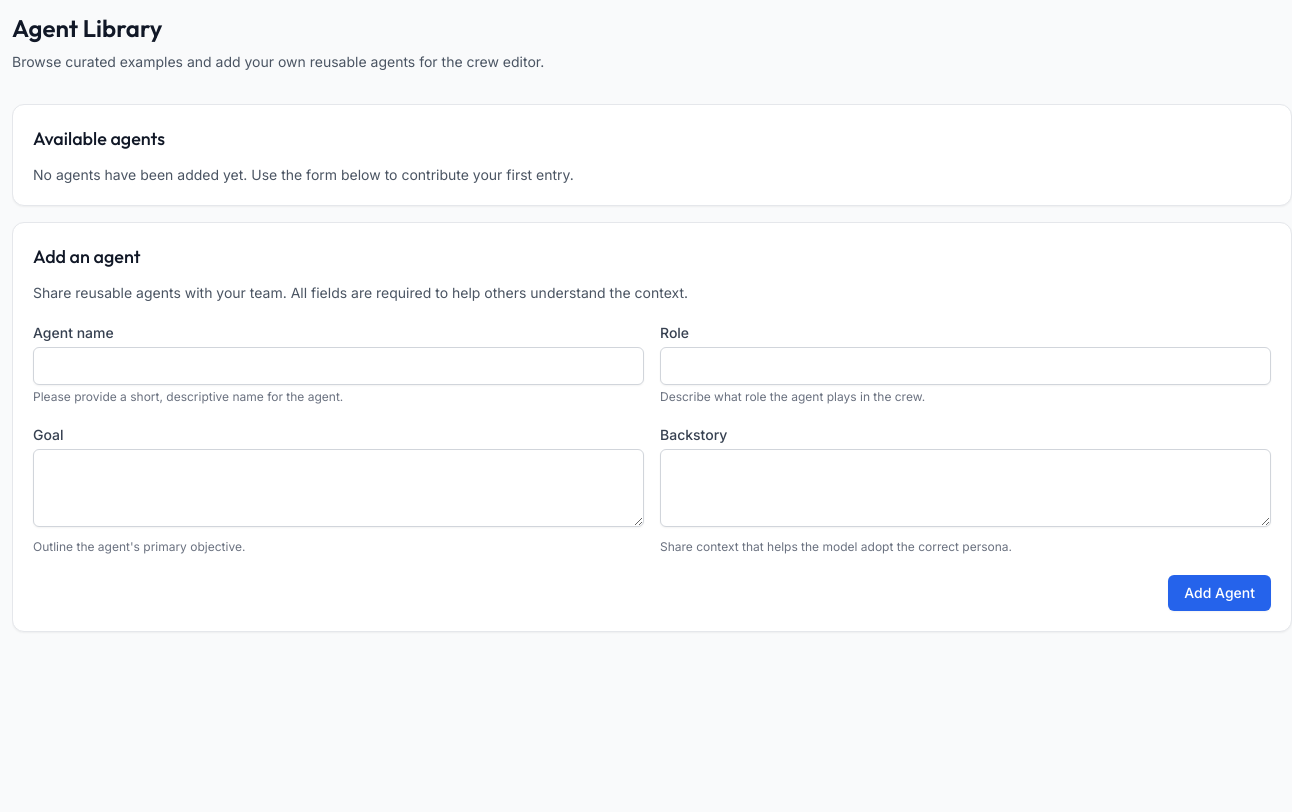
it: AgentLibraryPanel › shows inline validation errors when fields are missing
Expected: the heading "Add an agent" is shown, left=33, top=245, right=141, bottom=268
Click the button "Add Agent". click: (1220,593)
box: left=1168, top=575, right=1271, bottom=611
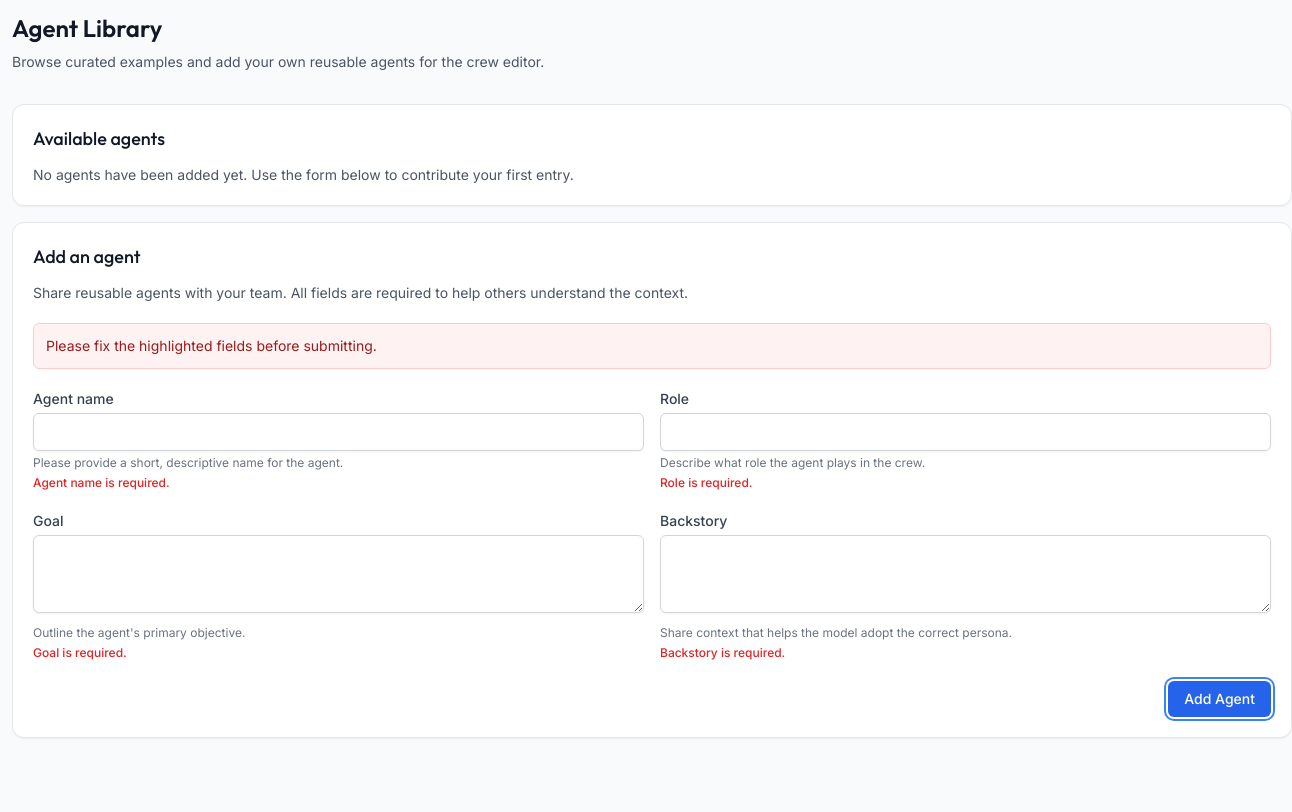
Now the text "Please fix the highlighted fields before submitting." is shown, box left=33, top=323, right=1271, bottom=369
